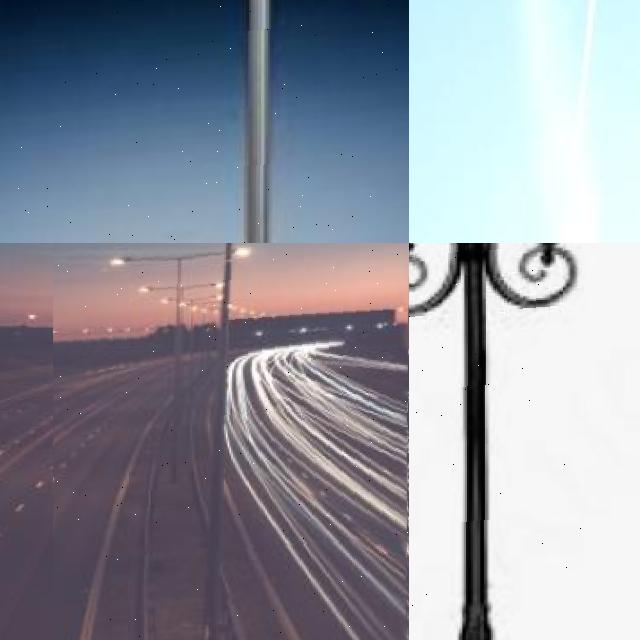street light: (54, 243, 409, 640), (0, 0, 409, 243), (409, 243, 583, 640), (122, 255, 250, 466), (148, 283, 226, 414), (19, 315, 36, 367), (57, 317, 73, 359), (385, 320, 398, 364), (87, 319, 101, 355), (112, 318, 122, 351)
